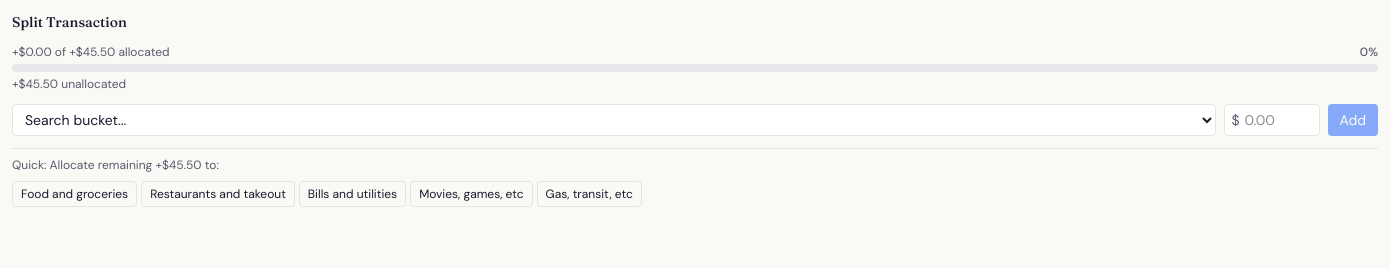
Test: SplitTransaction › removing splits › removes split when remove button clicked
The width and height of the screenshot is (1390, 268).
Add a split
Step 1. Select "Food and groceries" in the dropdown → point(614, 120), box [12,104,1216,136]
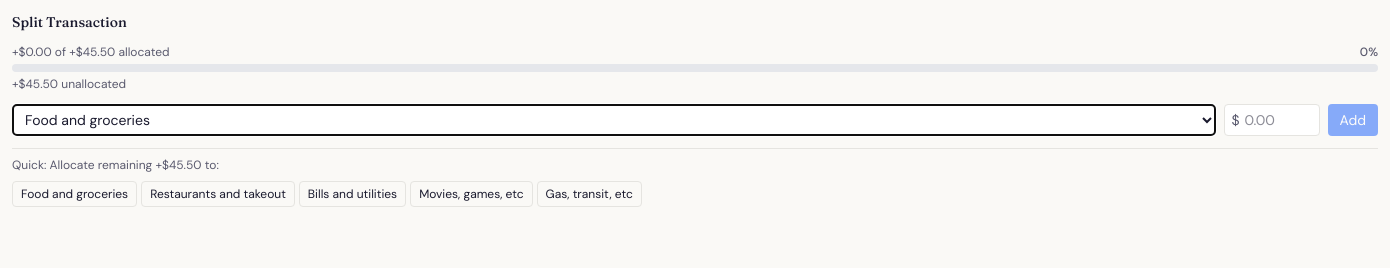
Step 2. Type "20" into the number field with placeholder "0.00" → point(1272, 120), box [1224,104,1320,136]
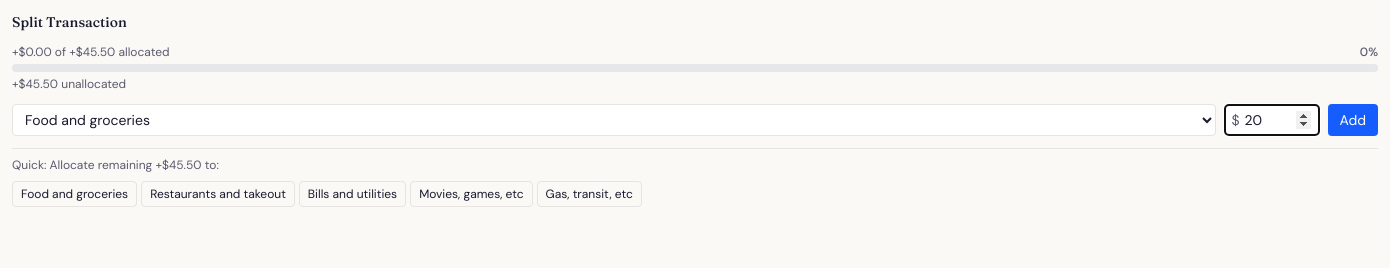
Step 3. Click the button "Add" → point(1353, 120), box [1328,104,1378,136]
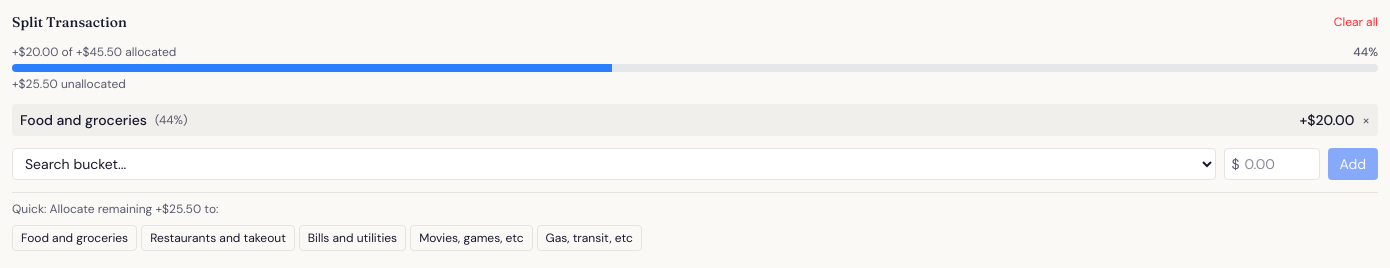
Check: the text "+$20.00" is shown, box [1299,110,1354,130]
Remove it (get the first remove button)
Step 4. Click the button with test id "split-remove-button" → point(1366, 120), box [1362,110,1370,130]
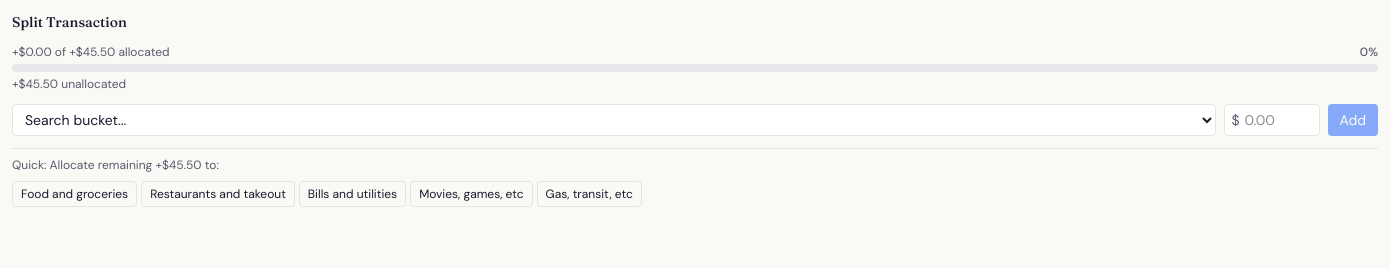
Check: the text "+$20.00" is gone
Check: the text "0%" is shown, box [1360,44,1378,60]
